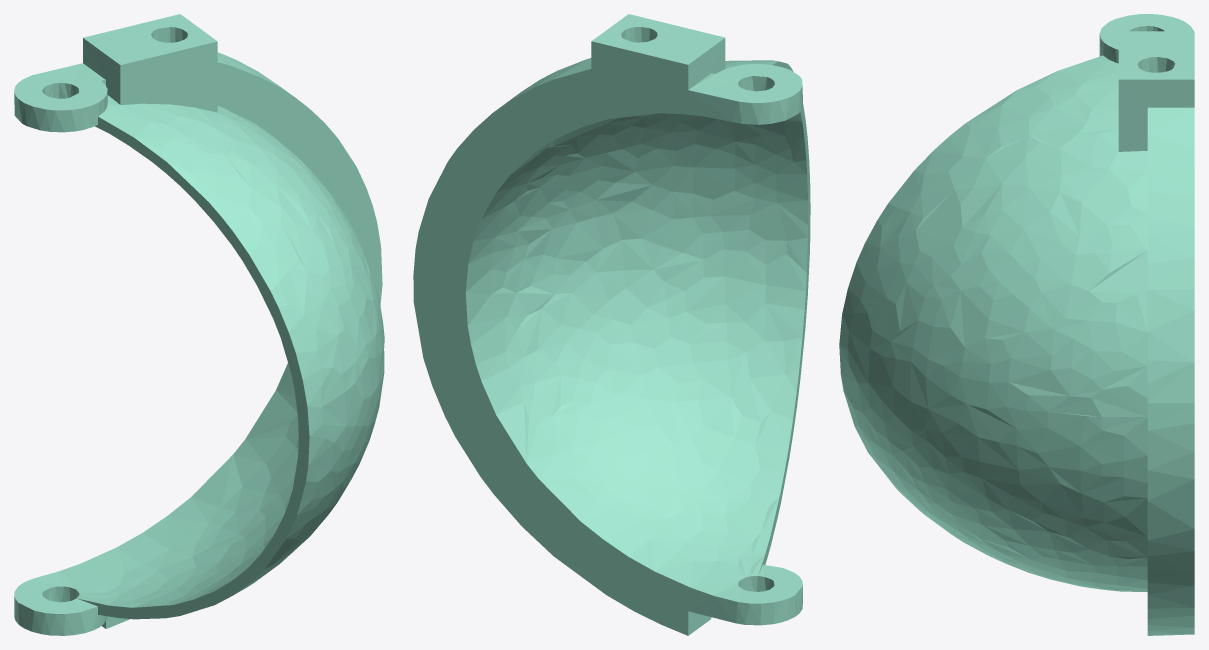
File: i02_head_right_top_eyelid_visual.obj.light.glb
The picture shows the model from 3 angles, left to right: view 1: azimuth 30°, elevation 25°; view 2: azimuth 150°, elevation 25°; view 3: azimuth 270°, elevation 25°; orthographic projection. The views are drawn at different scales.
Size of the model in its own units: 0.2107 by 0.3191 by 0.1761.
